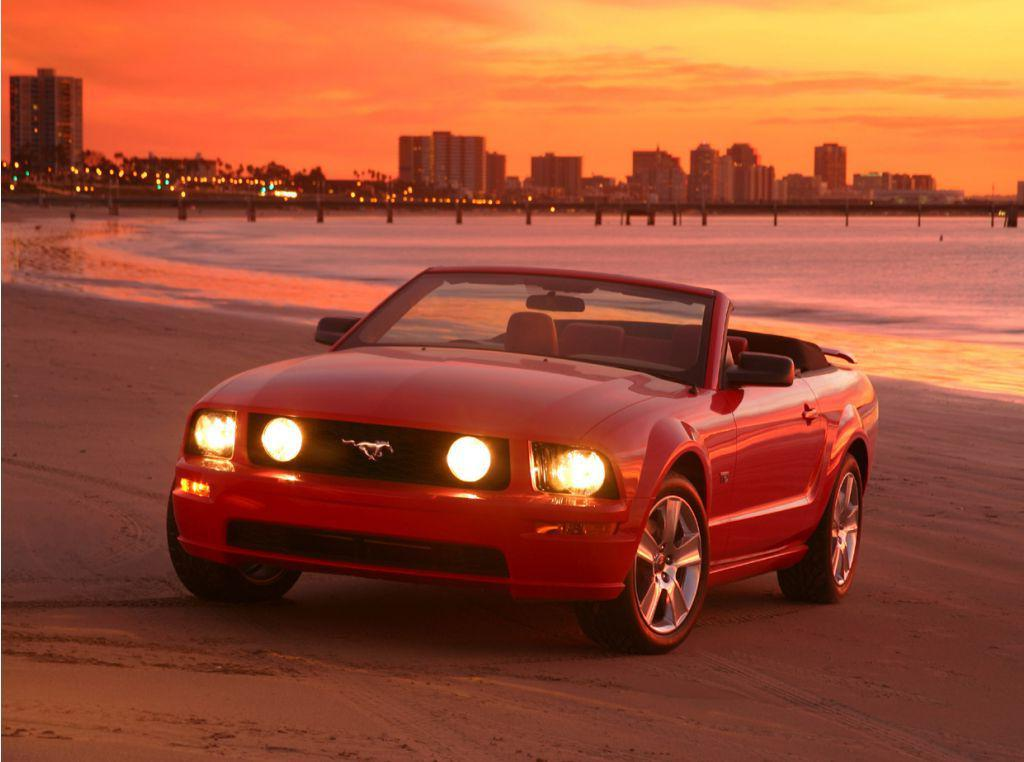Car: (143, 215, 898, 677)
